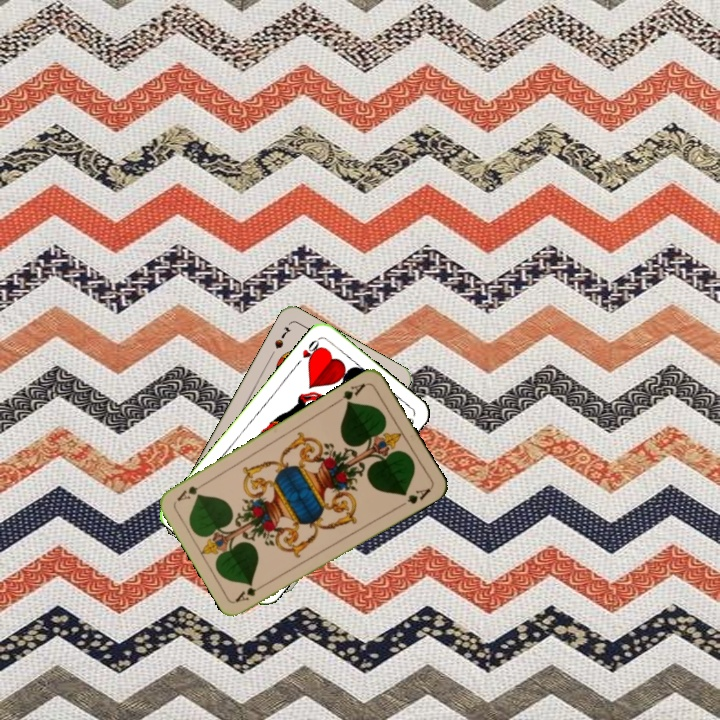GA: (333, 379, 369, 408), (232, 579, 270, 604)
HO: (292, 334, 324, 368)
S7: (270, 322, 294, 351)
